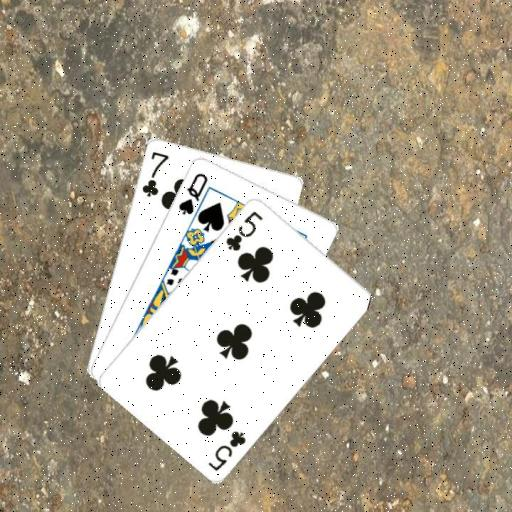5C: (222, 207, 264, 253), (205, 427, 247, 473)
7C: (139, 148, 171, 198)
QS: (175, 169, 209, 216)
